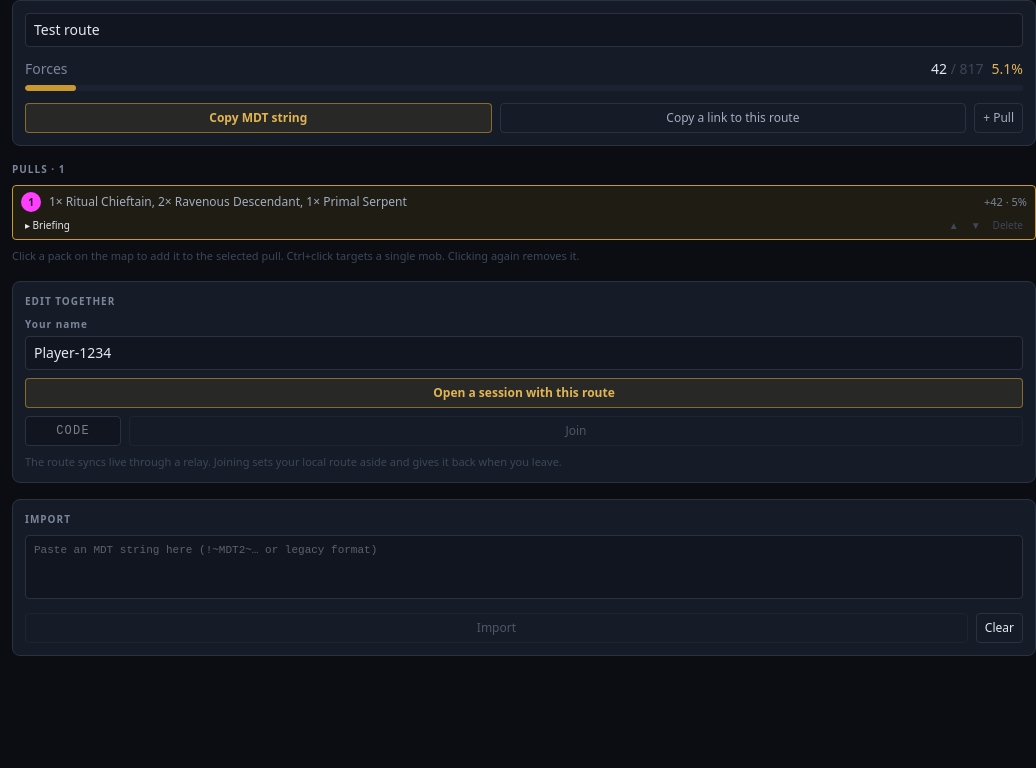
it: Import › translates a codec error into a sentence instead of leaking it raw
Type "x" into the text box with placeholder "Paste an MDT string here (!~MDT2~… or legacy format)" at (524, 567), box [25,535,1023,598]
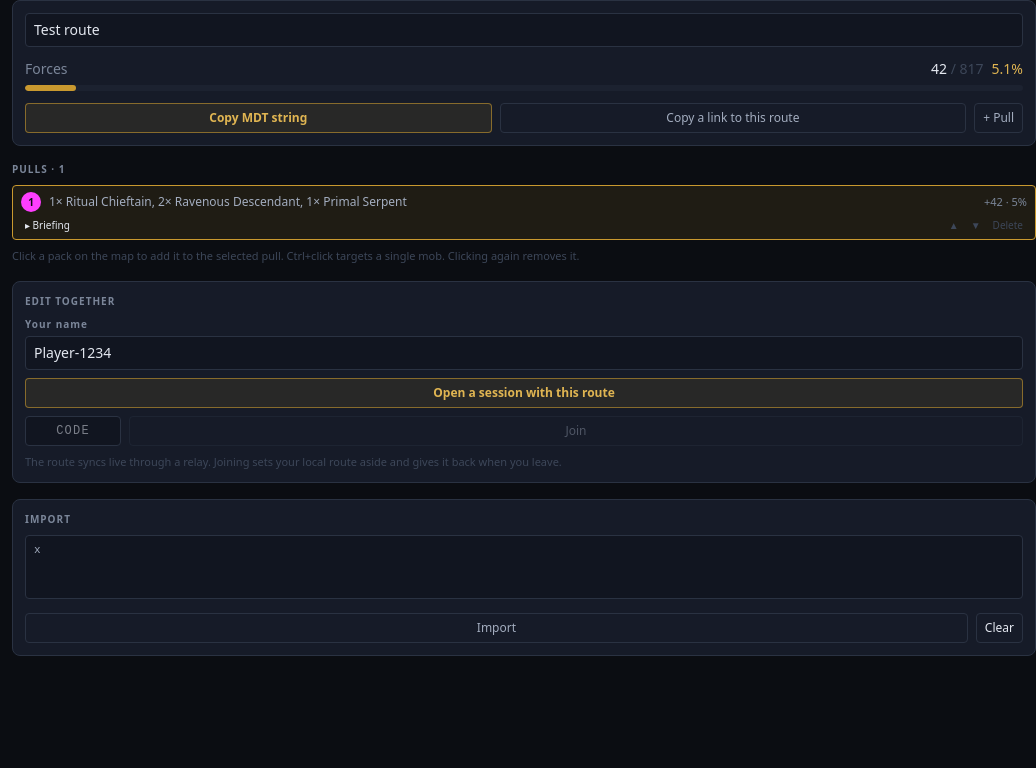
Click the button "Import" at (496, 628), box [25,612,968,642]
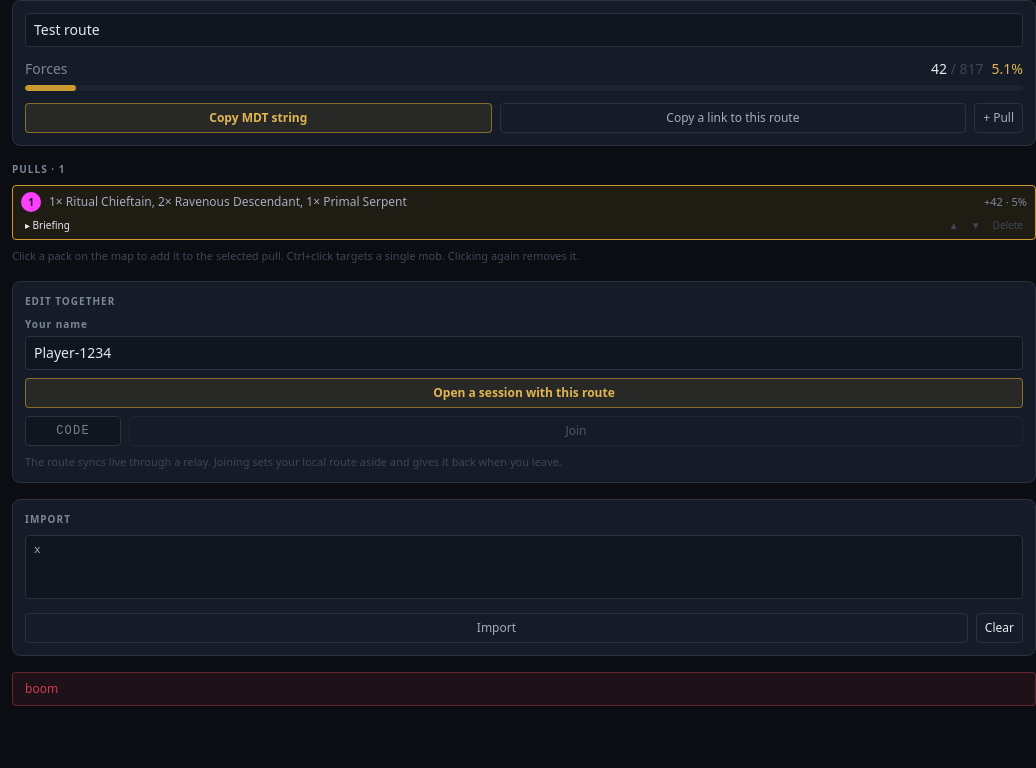
Expected: the text "boom" is shown, [12,672,1035,706]
